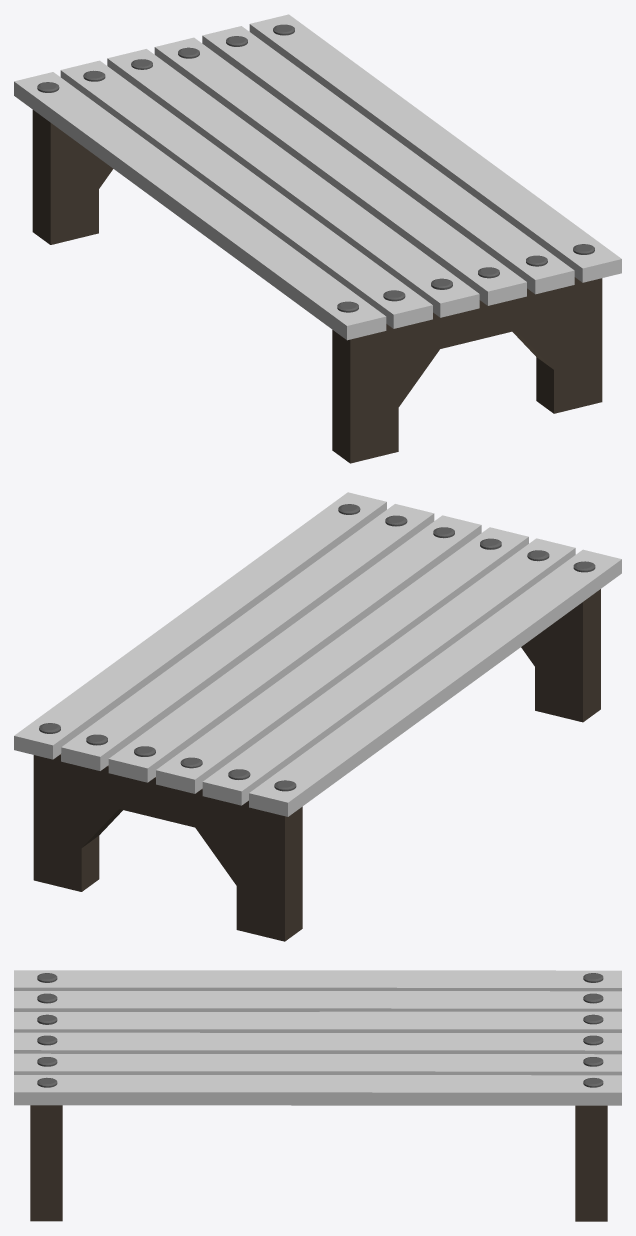
File: bench.fbx
The picture shows the model from 3 angles, top to bottom: view 1: azimuth 30°, elevation 25°; view 2: azimuth 150°, elevation 25°; view 3: azimuth 270°, elevation 25°; orthographic projection. The views are drawn at different scales.
Parts seen in each view (by area): view 1: bench; view 2: bench; view 3: bench.
Part boxes in pixels (box(x1,y1,x2,y2)): bench: box(14, 14, 621, 463); bench: box(14, 492, 621, 941); bench: box(14, 970, 621, 1221).
Size of the model in its own units: 219 by 114 by 459.
